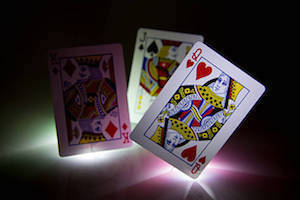JackOfSpades: (129, 25, 198, 96)
KingOfDiamonds: (43, 41, 136, 159)
QueenOfHearts: (142, 41, 268, 179)
